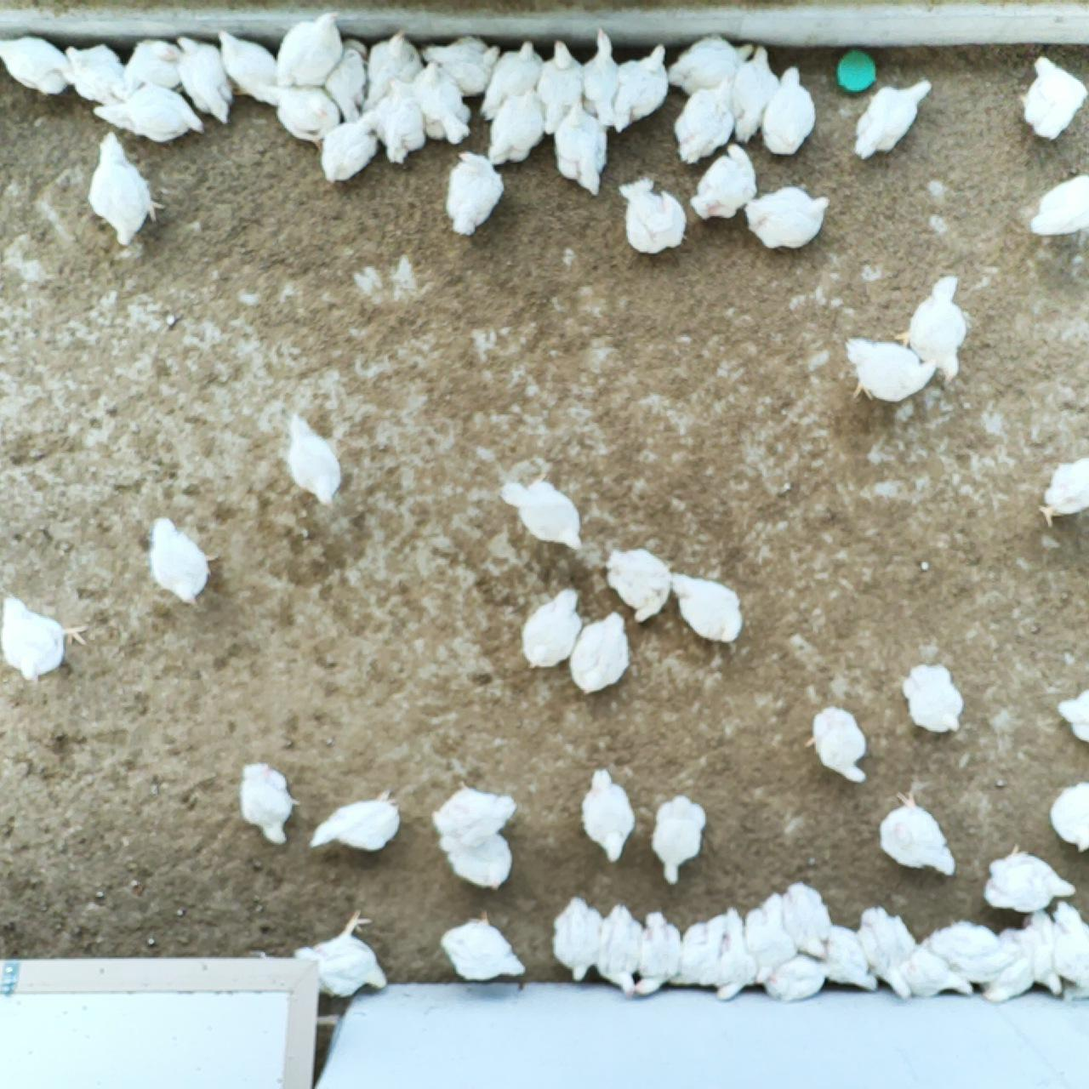chicken: (88, 131, 163, 248), (0, 593, 88, 685), (295, 912, 387, 999), (896, 273, 965, 384), (141, 514, 219, 610), (877, 789, 958, 881), (852, 80, 936, 165), (90, 83, 203, 143), (554, 80, 610, 201), (839, 335, 937, 404), (985, 844, 1077, 917), (502, 475, 588, 550), (304, 789, 400, 856), (438, 913, 526, 985), (1021, 54, 1087, 142), (280, 415, 343, 507), (617, 175, 686, 257), (611, 41, 672, 133), (743, 188, 830, 252), (172, 34, 232, 126), (922, 921, 1008, 985), (433, 779, 515, 846), (671, 568, 741, 645), (603, 544, 670, 624), (650, 793, 707, 887), (694, 143, 757, 228), (360, 30, 426, 111), (670, 35, 759, 95), (572, 607, 630, 699), (485, 87, 548, 170), (433, 826, 513, 891), (218, 29, 283, 109), (579, 770, 635, 862), (522, 585, 581, 672), (862, 909, 917, 1000), (671, 87, 736, 164), (762, 66, 818, 155), (447, 151, 504, 238), (240, 765, 300, 847), (415, 34, 496, 94), (481, 40, 544, 117), (277, 12, 343, 85), (629, 911, 685, 997), (806, 705, 864, 788), (900, 661, 964, 736), (536, 39, 586, 135), (414, 63, 472, 145), (596, 903, 645, 1000), (552, 894, 606, 982), (711, 907, 760, 1003), (731, 43, 778, 143), (813, 923, 880, 993), (321, 109, 381, 187), (747, 893, 798, 983), (372, 74, 422, 165), (0, 35, 77, 94), (1014, 912, 1064, 1001), (781, 882, 837, 959), (579, 28, 620, 131), (65, 44, 127, 111), (1029, 172, 1089, 238), (1037, 453, 1089, 528), (118, 34, 185, 92), (985, 926, 1036, 1000), (899, 950, 976, 999), (321, 42, 368, 119), (276, 80, 334, 140), (765, 955, 832, 1005), (671, 922, 718, 990), (1048, 778, 1089, 855), (1052, 905, 1089, 990), (1055, 689, 1089, 745)
